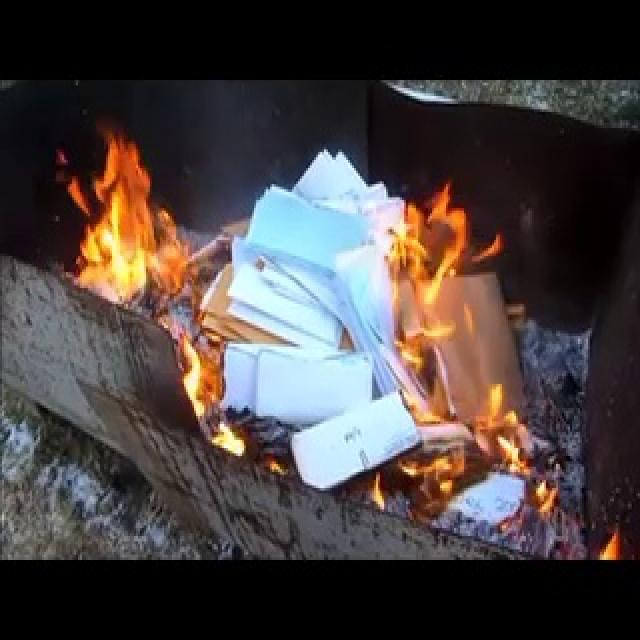fire: (376, 194, 500, 482), (49, 133, 213, 339)
